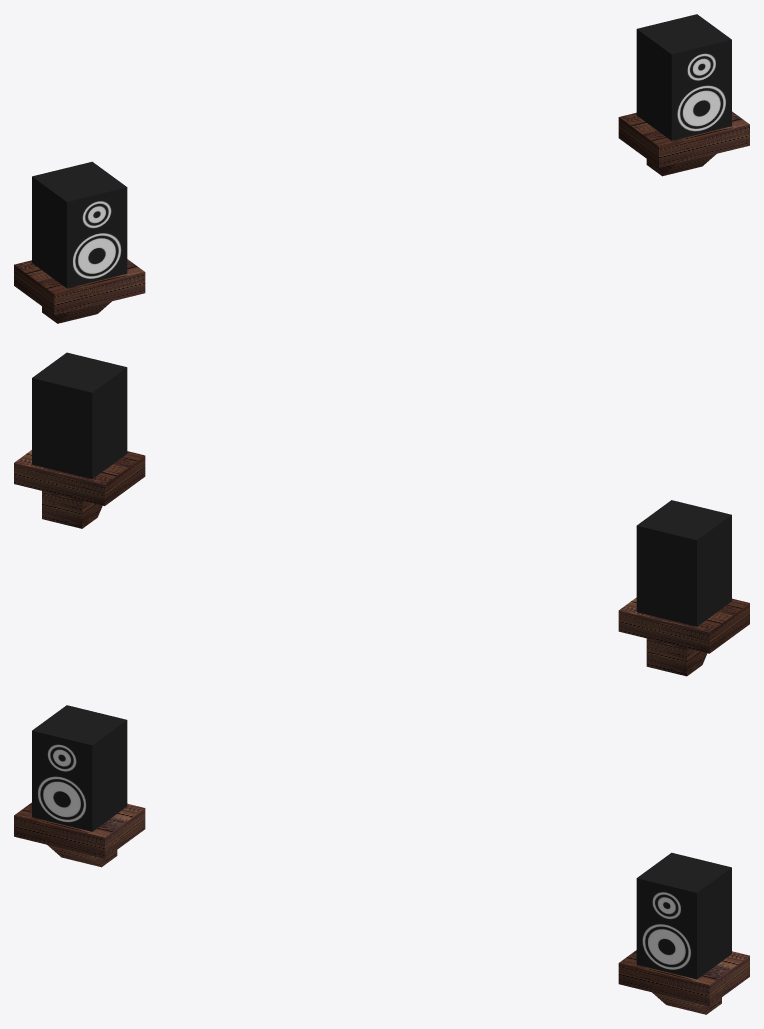
File: repisas3.obj
3 renders of one model, top to bottom at view 1: azimuth 30°, elevation 25°; view 2: azimuth 150°, elevation 25°; view 3: azimuth 330°, elevation 25°, orthographic.
Parts seen in each view (by area): view 1: Cube, Cube.002; view 2: Cube.002, Cube; view 3: Cube.002, Cube.
Boxes of the visible parts, x1,y1,x2,y2 form: Cube: (618,14,749,176); Cube.002: (14,161,145,323); Cube.002: (618,500,749,676); Cube: (14,352,145,528); Cube.002: (14,705,145,867); Cube: (618,852,749,1014).
Size of the model in its own units: 23 by 4.38 by 2.32.
Materials: 6 (6 with a texture image).
